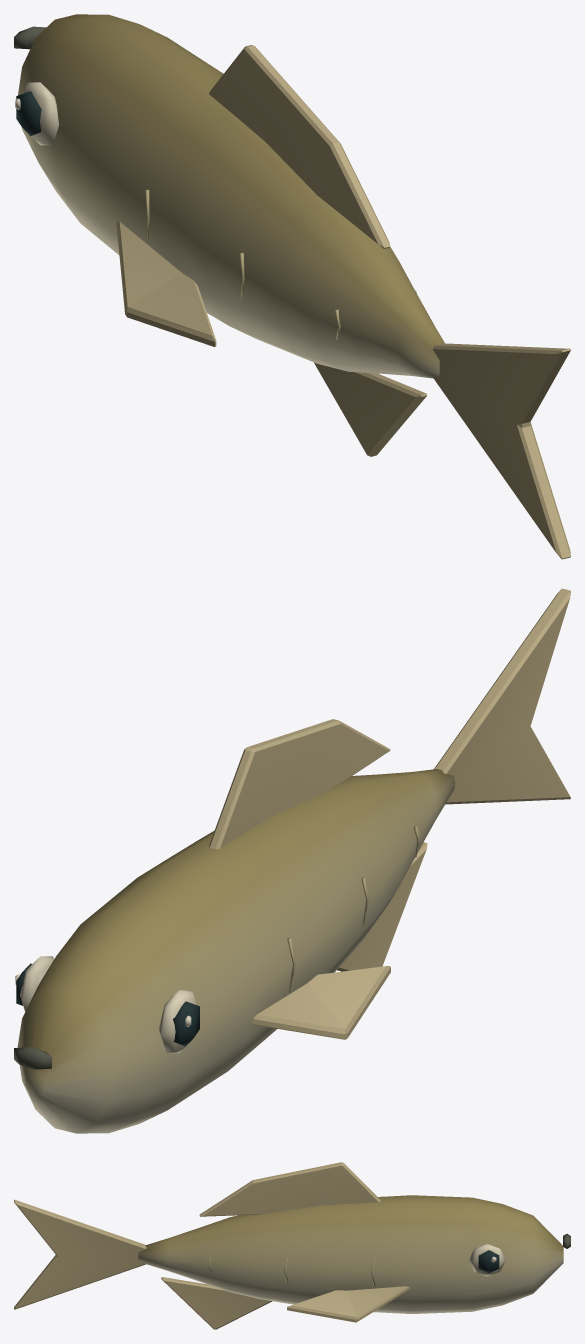
The model's file is fish_medaka.glb.
The picture shows the model from 3 angles, top to bottom: view 1: azimuth 30°, elevation 25°; view 2: azimuth 150°, elevation 25°; view 3: azimuth 270°, elevation 25°; orthographic projection. The views are drawn at different scales.
Size of the model in its own units: 0.0166 by 0.023 by 0.0699.
